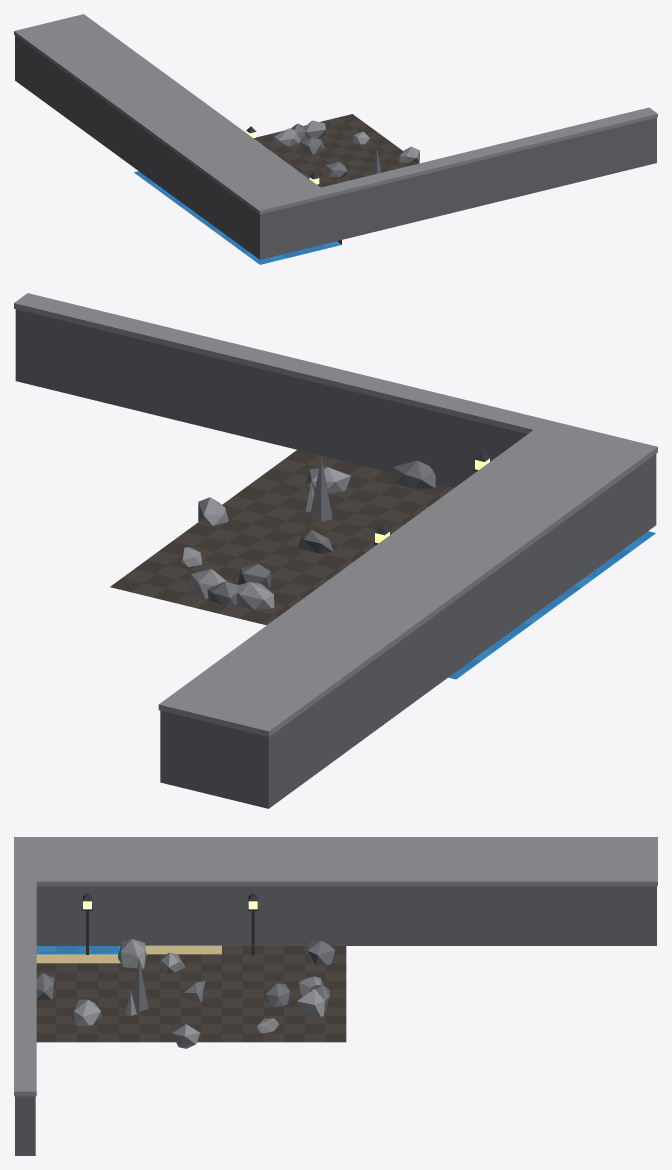
File: chunk_4_19.glb
The picture shows the model from 3 angles, top to bottom: view 1: azimuth 30°, elevation 25°; view 2: azimuth 150°, elevation 25°; view 3: azimuth 270°, elevation 25°; orthographic projection. The views are drawn at different scales.
Visible parts, largest first — view 1: chunk_4_19; view 2: chunk_4_19; view 3: chunk_4_19.
Boxes of the visible parts, <box> form: chunk_4_19: <box>14,14,657,264</box>; chunk_4_19: <box>14,293,657,808</box>; chunk_4_19: <box>14,837,657,1155</box>.
Size of the model in its own units: 29.1 by 4.07 by 31.1.
